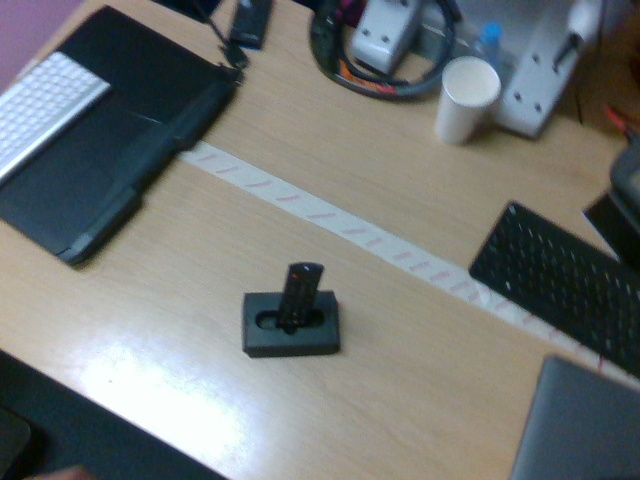remote: (276, 262, 325, 326)
